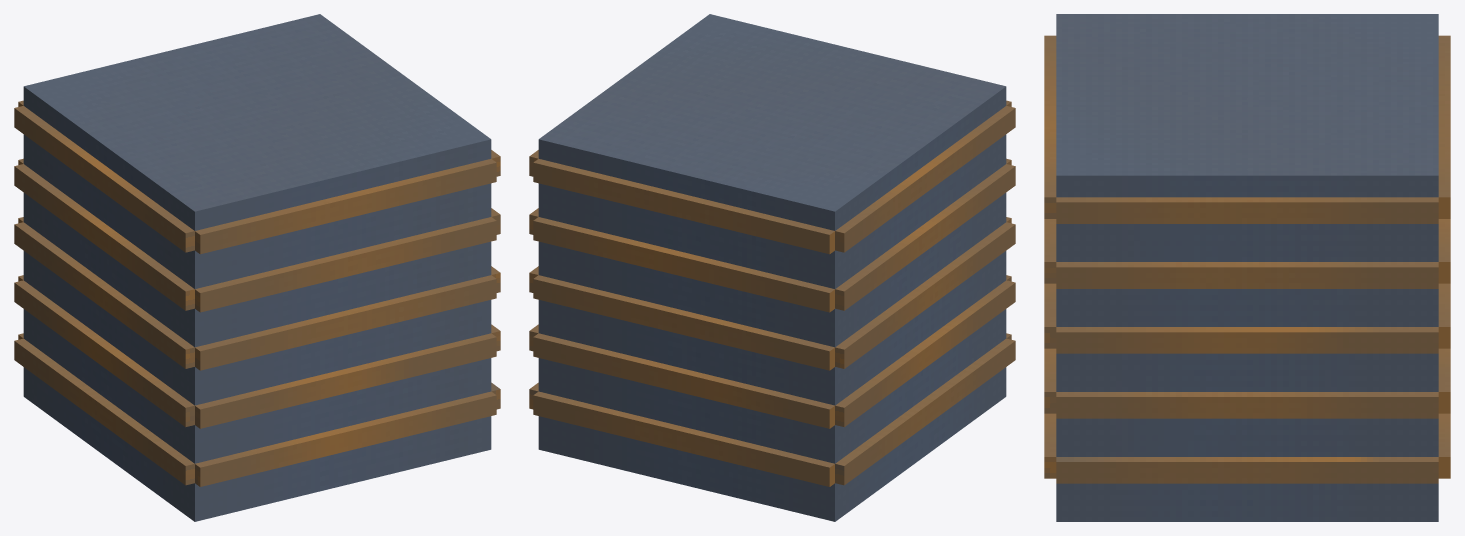
Rendered from cargocrate.gltf.
The picture shows the model from 3 angles, left to right: view 1: azimuth 30°, elevation 25°; view 2: azimuth 150°, elevation 25°; view 3: azimuth 270°, elevation 25°; orthographic projection. The views are drawn at different scales.
Visible parts, largest first — view 1: cuboid, cube (×10); view 2: cuboid, cube (×10); view 3: cuboid, cube (×15).
Part boxes in pixels (x1,y1,x2,y2): cuboid: [23, 14, 491, 521]; cube (×10): [14, 106, 496, 486]; cuboid: [538, 14, 1006, 521]; cube (×10): [533, 106, 1015, 486]; cuboid: [1056, 14, 1438, 521]; cube (×15): [1044, 35, 1450, 483].
Bounding box in the file's own units: 1.06 × 1 × 1.06.
1 material, 1 textured.
